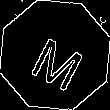M_NE: (23, 22, 87, 88)
